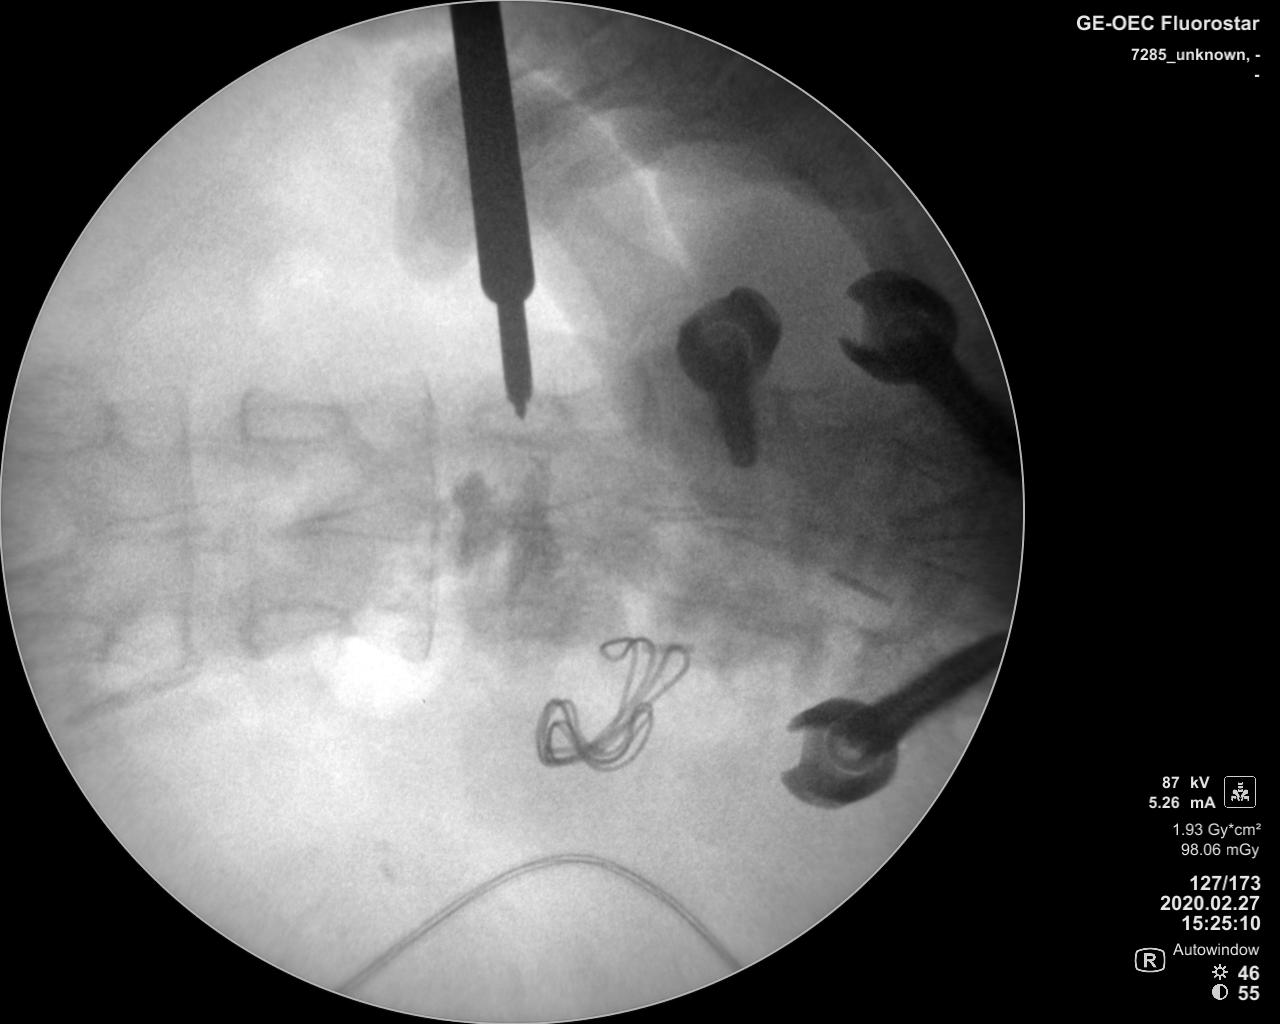eyes: (11, 378, 110, 456), (14, 609, 113, 667), (472, 393, 572, 447), (460, 600, 571, 644), (243, 602, 352, 646), (239, 401, 349, 442)
line: (415, 368, 448, 670), (164, 382, 197, 669), (233, 385, 261, 661)
nose: (276, 496, 437, 546), (498, 492, 648, 544), (98, 502, 211, 546)
